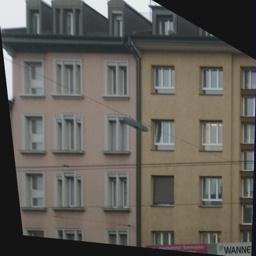building: (0, 0, 139, 247), (142, 6, 256, 256)
